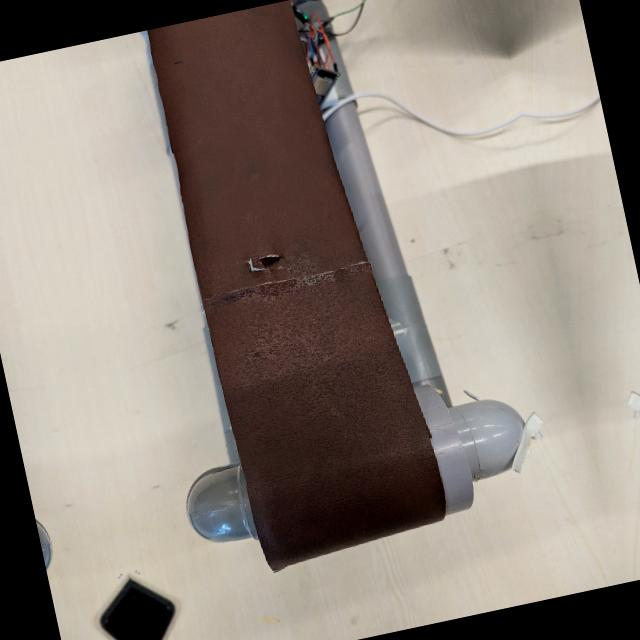joint_damage: (214, 242, 297, 295)
